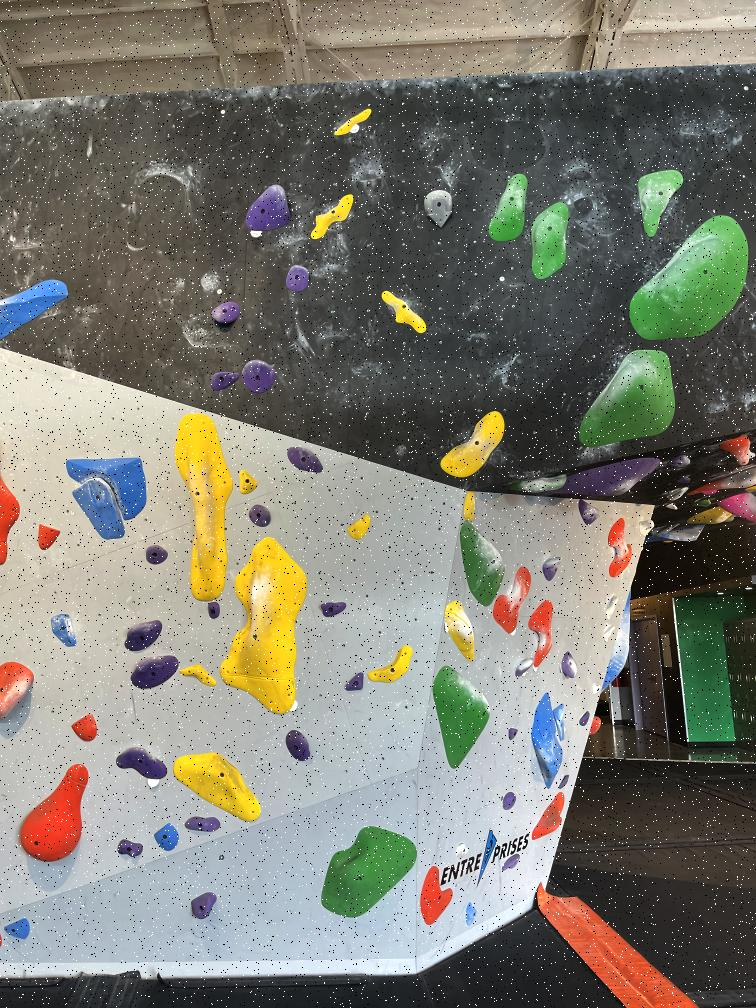Crimp: (65, 456, 149, 520), (70, 477, 126, 541), (419, 866, 454, 925), (368, 650, 417, 681), (49, 612, 78, 652), (69, 714, 105, 742), (152, 823, 180, 853), (37, 521, 59, 557), (344, 514, 375, 536), (578, 499, 600, 526), (240, 468, 257, 498), (346, 671, 366, 693), (605, 594, 619, 620), (603, 626, 616, 643), (692, 498, 713, 508), (666, 503, 678, 512)
Edges: (0, 279, 70, 343), (634, 164, 692, 240), (532, 692, 566, 790), (326, 103, 378, 144), (179, 658, 223, 689)
Foothold: (532, 790, 565, 840), (4, 918, 30, 940), (464, 901, 478, 927), (504, 724, 520, 741), (502, 854, 519, 870), (501, 792, 516, 810), (208, 601, 221, 621), (558, 774, 570, 788), (580, 711, 590, 727), (592, 683, 602, 695)
Jug: (0, 661, 34, 722), (246, 185, 289, 230), (114, 745, 166, 780), (126, 656, 180, 687), (508, 470, 570, 494), (119, 622, 167, 652), (284, 444, 328, 476), (423, 190, 460, 228), (716, 432, 754, 468), (240, 360, 279, 394), (715, 494, 756, 523), (285, 728, 313, 764), (189, 891, 218, 923), (660, 524, 708, 542), (285, 262, 310, 296), (208, 302, 242, 326), (248, 504, 274, 529), (142, 544, 170, 566), (561, 652, 581, 682), (209, 371, 242, 389), (184, 816, 221, 832), (542, 555, 562, 584), (320, 599, 350, 616), (660, 486, 694, 501), (515, 657, 533, 682), (649, 523, 680, 537), (668, 453, 691, 470), (638, 520, 656, 537), (674, 474, 694, 484)
Pinch: (299, 192, 366, 248), (376, 289, 433, 338), (116, 838, 147, 859)
Sloper: (612, 212, 752, 340), (222, 538, 307, 714), (568, 347, 680, 454), (174, 413, 233, 600), (320, 825, 417, 918), (172, 749, 266, 826), (430, 662, 493, 770), (20, 764, 88, 863), (435, 408, 507, 481), (546, 456, 658, 498), (460, 519, 504, 605), (530, 201, 570, 280), (488, 171, 528, 244), (494, 565, 532, 635), (443, 604, 482, 662), (528, 602, 554, 666), (608, 517, 632, 578)
